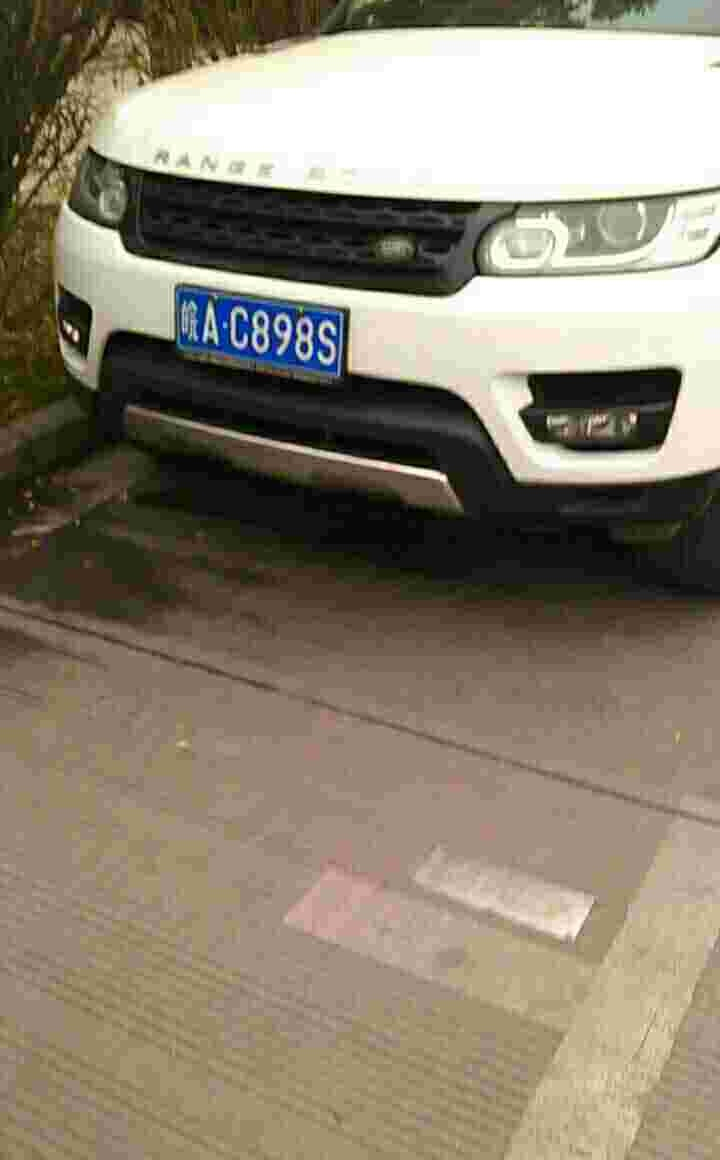car: (172, 282, 343, 379)
